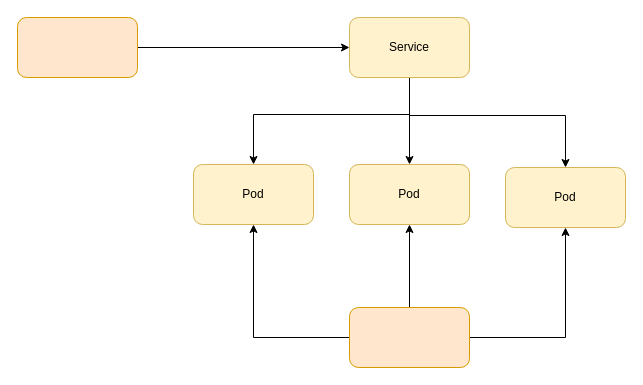
Some shapes in this 643 by 385 pixel diagram are drawn without their labels. Here are the shapes that lost their labels. From the top down, the centre of each, then its label:
At (77,47): "客户端".
At (409,337): "ReplicationController/ ReplicaSet".
